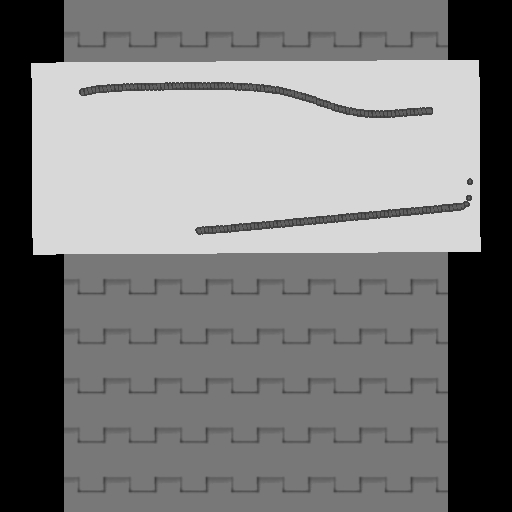Defect: (54, 83, 197, 239)
